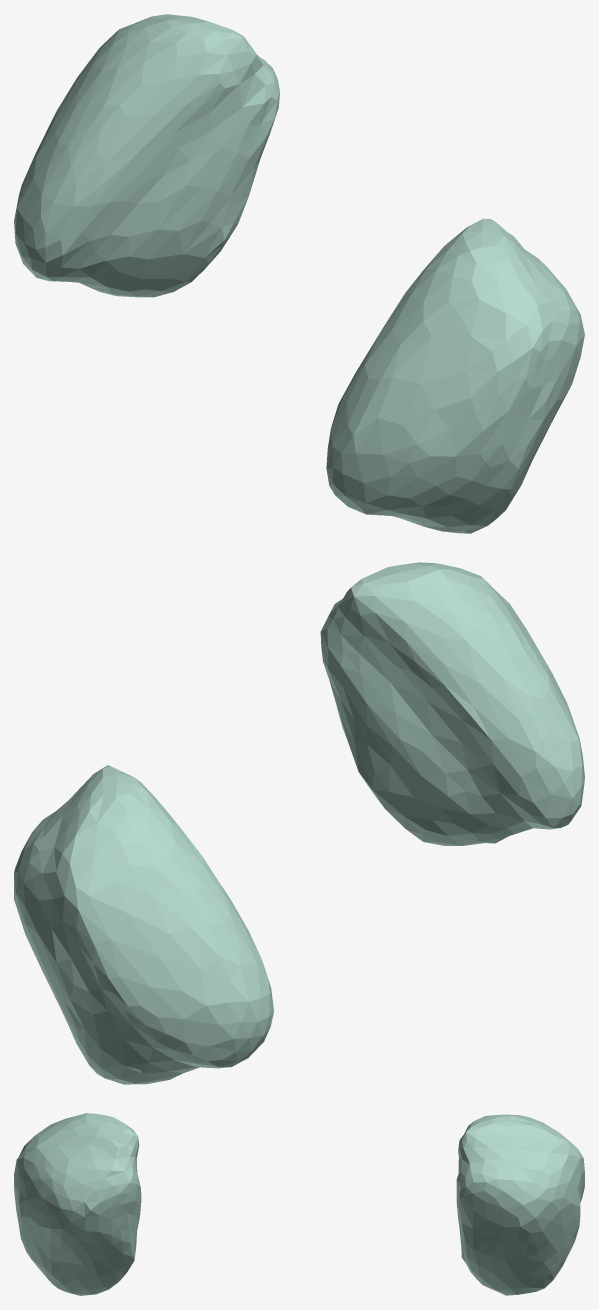
3 views of the same model, one above another, from view 1: azimuth 30°, elevation 25°; view 2: azimuth 150°, elevation 25°; view 3: azimuth 270°, elevation 25° (orthographic). The views are drawn at different scales.
Visible parts, largest first — view 1: 151.obj; view 2: 151.obj; view 3: 151.obj.
Part boxes in pixels (x1,y1,x2,y2): 151.obj: (14, 14, 584, 533); 151.obj: (14, 562, 584, 1084); 151.obj: (14, 1113, 584, 1295).
Size of the model in its own units: 1007 by 1080 by 3006.
